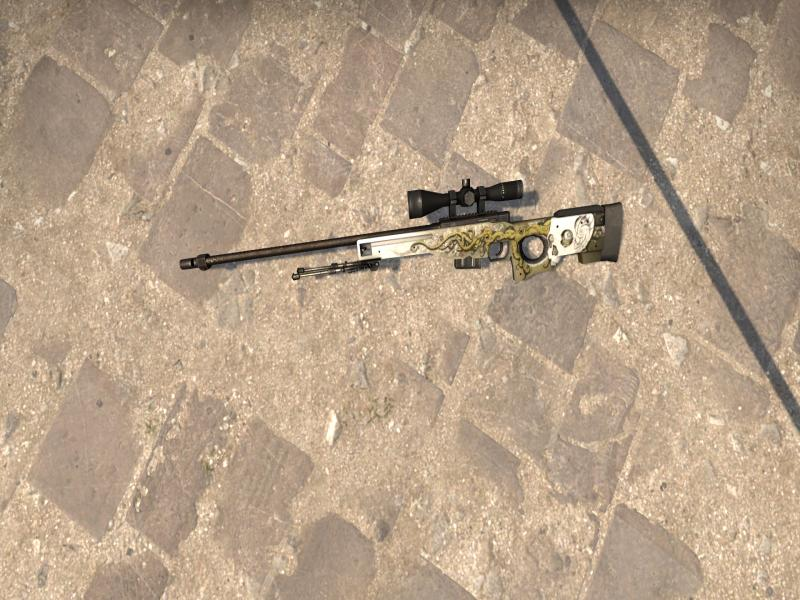AWP: (179, 178, 624, 280)
